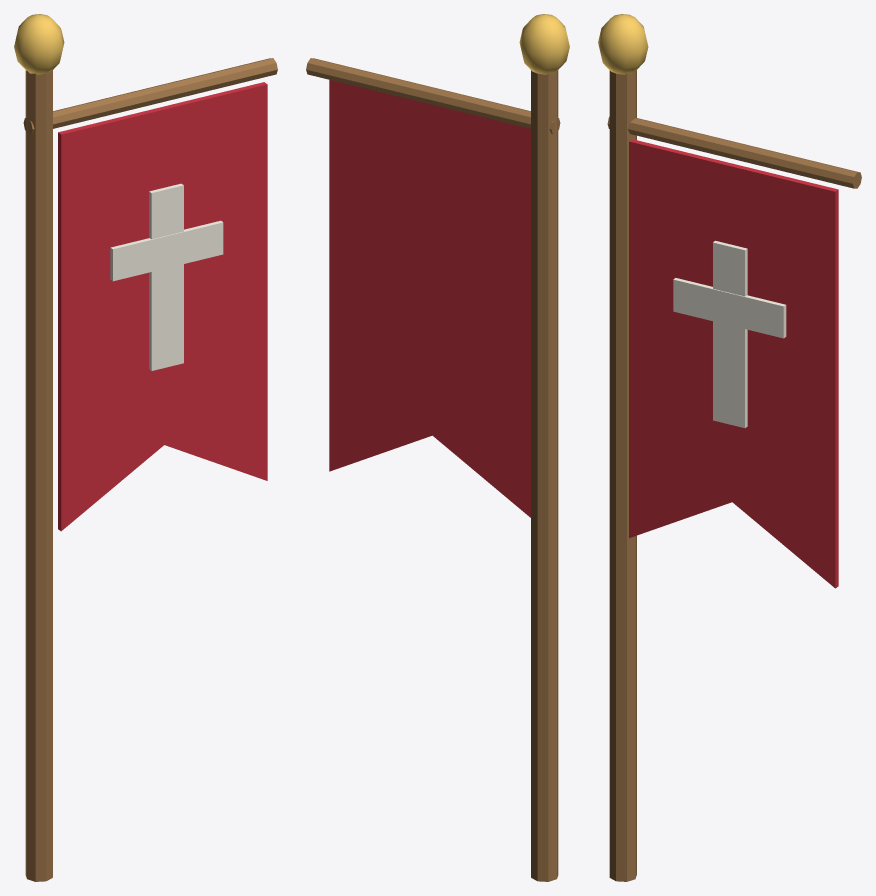
File: prop_banner_red.glb
3 renders of one model, left to right at view 1: azimuth 30°, elevation 25°; view 2: azimuth 150°, elevation 25°; view 3: azimuth 330°, elevation 25°, orthographic.
Visible parts, largest first — view 1: prop_banner_red; view 2: prop_banner_red; view 3: prop_banner_red.
Boxes of the visible parts, box(x1,y1,x2,y2) form: prop_banner_red: box(14, 14, 277, 881); prop_banner_red: box(306, 14, 569, 881); prop_banner_red: box(598, 14, 861, 881).
Bounding box in the file's own units: 0.9161 × 2.95 × 0.16.
